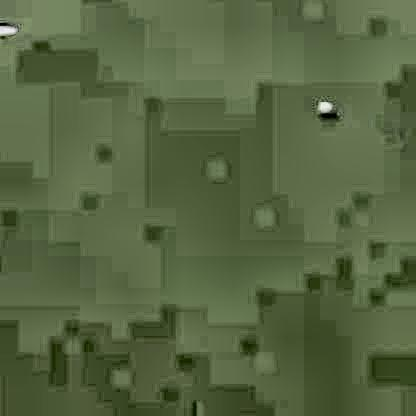golfball: (316, 99, 330, 113)
